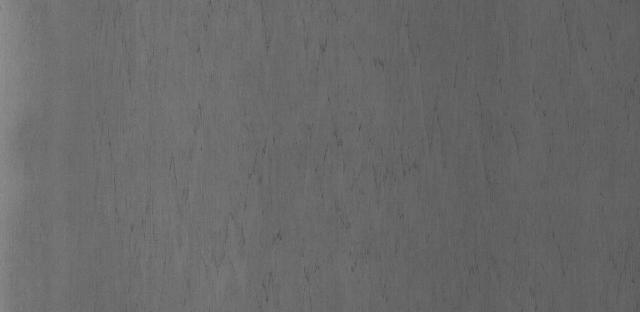silk_spot: (137, 13, 545, 312)
